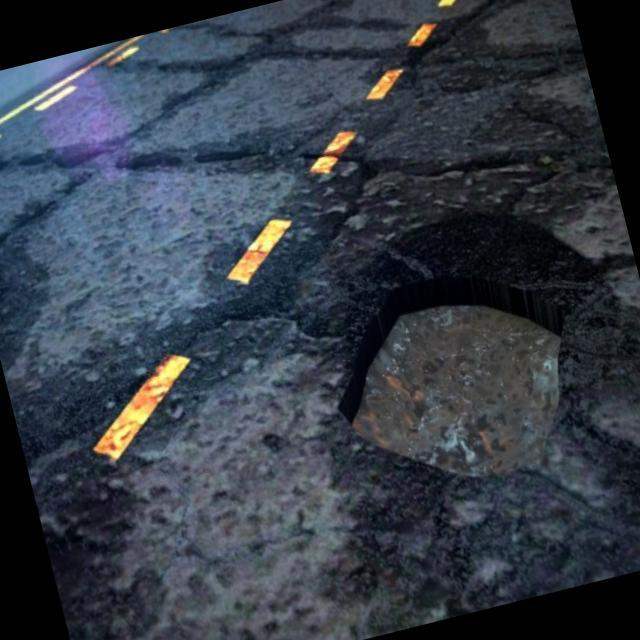Pothole: (287, 181, 622, 520)
